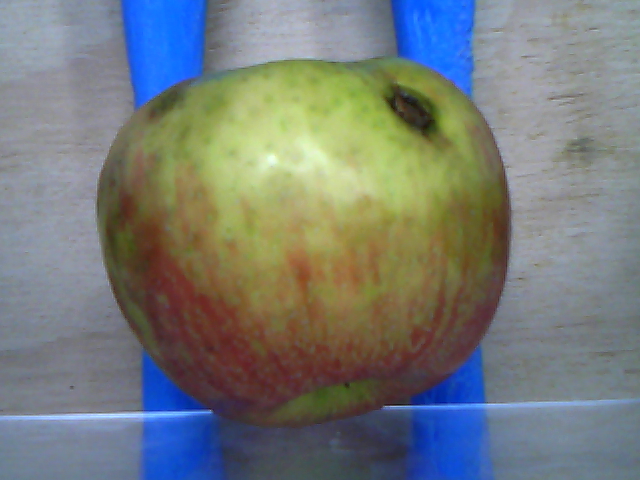puncture: (382, 82, 441, 138)
